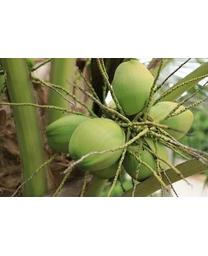coconut: (71, 119, 128, 170), (107, 59, 152, 114), (149, 100, 197, 149), (45, 116, 93, 151), (124, 143, 164, 183)
